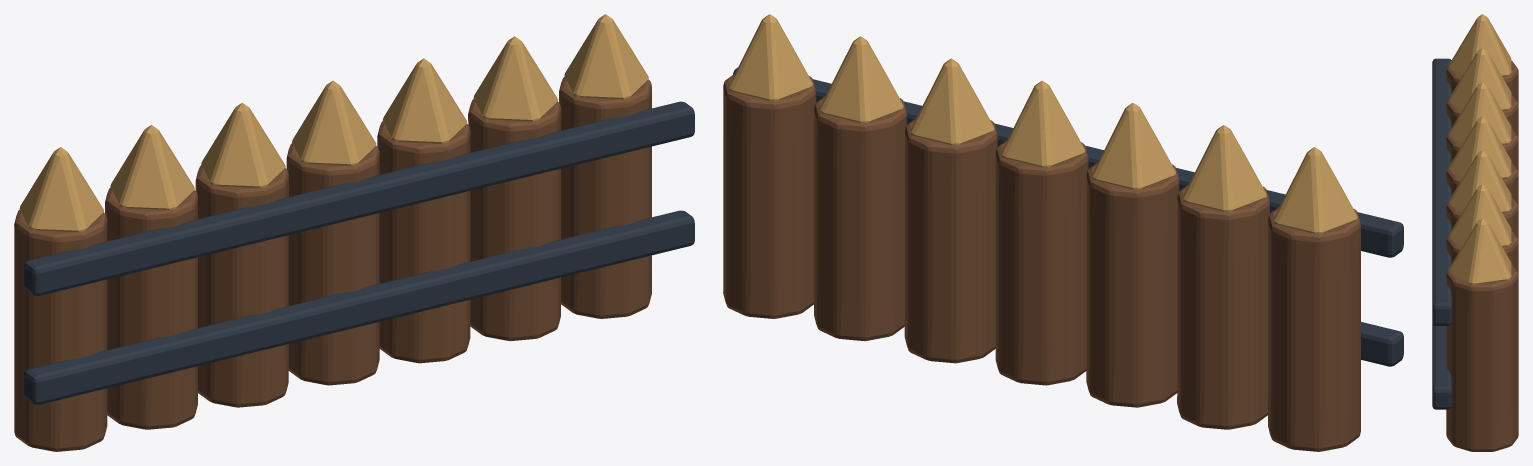
The model's file is barricade.glb.
3 renders of one model, left to right at view 1: azimuth 30°, elevation 25°; view 2: azimuth 150°, elevation 25°; view 3: azimuth 270°, elevation 25°, orthographic. The views are drawn at different scales.
Visible parts, largest first — view 1: _MeshInstance3D_450, _MeshInstance3D_451, _MeshInstance3D_436, _MeshInstance3D_444, _MeshInstance3D_442, _MeshInstance3D_446, _MeshInstance3D_440, _MeshInstance3D_438, _MeshInstance3D_448, _MeshInstance3D_439, _MeshInstance3D_441, _MeshInstance3D_443 (+4 smaller); view 2: _MeshInstance3D_436, _MeshInstance3D_440, _MeshInstance3D_442, _MeshInstance3D_444, _MeshInstance3D_448, _MeshInstance3D_438, _MeshInstance3D_446, _MeshInstance3D_443, _MeshInstance3D_437, _MeshInstance3D_441, _MeshInstance3D_445, _MeshInstance3D_449 (+4 smaller); view 3: _MeshInstance3D_448, _MeshInstance3D_451, _MeshInstance3D_449, _MeshInstance3D_441, _MeshInstance3D_445, _MeshInstance3D_439, _MeshInstance3D_443, _MeshInstance3D_437, _MeshInstance3D_447, _MeshInstance3D_450, _MeshInstance3D_442, _MeshInstance3D_440 (+4 smaller).
Part boxes in pixels (x1=…): _MeshInstance3D_450: x1=24, y1=210, x2=694, y2=404; _MeshInstance3D_451: x1=24, y1=101, x2=694, y2=295; _MeshInstance3D_436: x1=14, y1=210, x2=107, y2=451; _MeshInstance3D_444: x1=377, y1=121, x2=470, y2=363; _MeshInstance3D_442: x1=286, y1=143, x2=379, y2=385; _MeshInstance3D_446: x1=468, y1=99, x2=561, y2=341; _MeshInstance3D_440: x1=195, y1=165, x2=288, y2=407; _MeshInstance3D_438: x1=105, y1=187, x2=197, y2=429; _MeshInstance3D_448: x1=559, y1=77, x2=651, y2=318; _MeshInstance3D_439: x1=110, y1=125, x2=194, y2=209; _MeshInstance3D_441: x1=201, y1=102, x2=285, y2=187; _MeshInstance3D_443: x1=292, y1=80, x2=376, y2=165; _MeshInstance3D_436: x1=1268, y1=206, x2=1360, y2=451; _MeshInstance3D_440: x1=1086, y1=162, x2=1179, y2=407; _MeshInstance3D_442: x1=995, y1=140, x2=1088, y2=385; _MeshInstance3D_444: x1=904, y1=118, x2=997, y2=363; _MeshInstance3D_448: x1=723, y1=73, x2=816, y2=318; _MeshInstance3D_438: x1=1177, y1=184, x2=1269, y2=429; _MeshInstance3D_446: x1=814, y1=96, x2=906, y2=341; _MeshInstance3D_443: x1=1001, y1=80, x2=1085, y2=167; _MeshInstance3D_437: x1=1273, y1=147, x2=1357, y2=233; _MeshInstance3D_441: x1=1091, y1=103, x2=1176, y2=189; _MeshInstance3D_445: x1=910, y1=58, x2=994, y2=145; _MeshInstance3D_449: x1=728, y1=14, x2=812, y2=100; _MeshInstance3D_448: x1=1446, y1=264, x2=1518, y2=451; _MeshInstance3D_451: x1=1432, y1=58, x2=1452, y2=325; _MeshInstance3D_449: x1=1448, y1=218, x2=1511, y2=284; _MeshInstance3D_441: x1=1448, y1=82, x2=1511, y2=144; _MeshInstance3D_445: x1=1448, y1=150, x2=1511, y2=212; _MeshInstance3D_439: x1=1448, y1=48, x2=1511, y2=110; _MeshInstance3D_443: x1=1448, y1=116, x2=1511, y2=178; _MeshInstance3D_437: x1=1448, y1=14, x2=1511, y2=76; _MeshInstance3D_447: x1=1448, y1=184, x2=1511, y2=246; _MeshInstance3D_450: x1=1432, y1=323, x2=1452, y2=409; _MeshInstance3D_442: x1=1446, y1=162, x2=1518, y2=206; _MeshInstance3D_440: x1=1446, y1=128, x2=1518, y2=172.
Size of the model in its own units: 3.5 by 1.45 by 0.5161.
